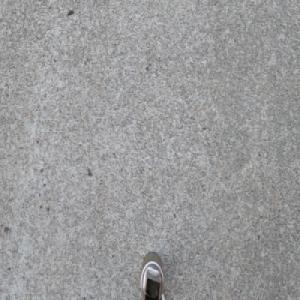MetalPart: (137, 249, 166, 300)
